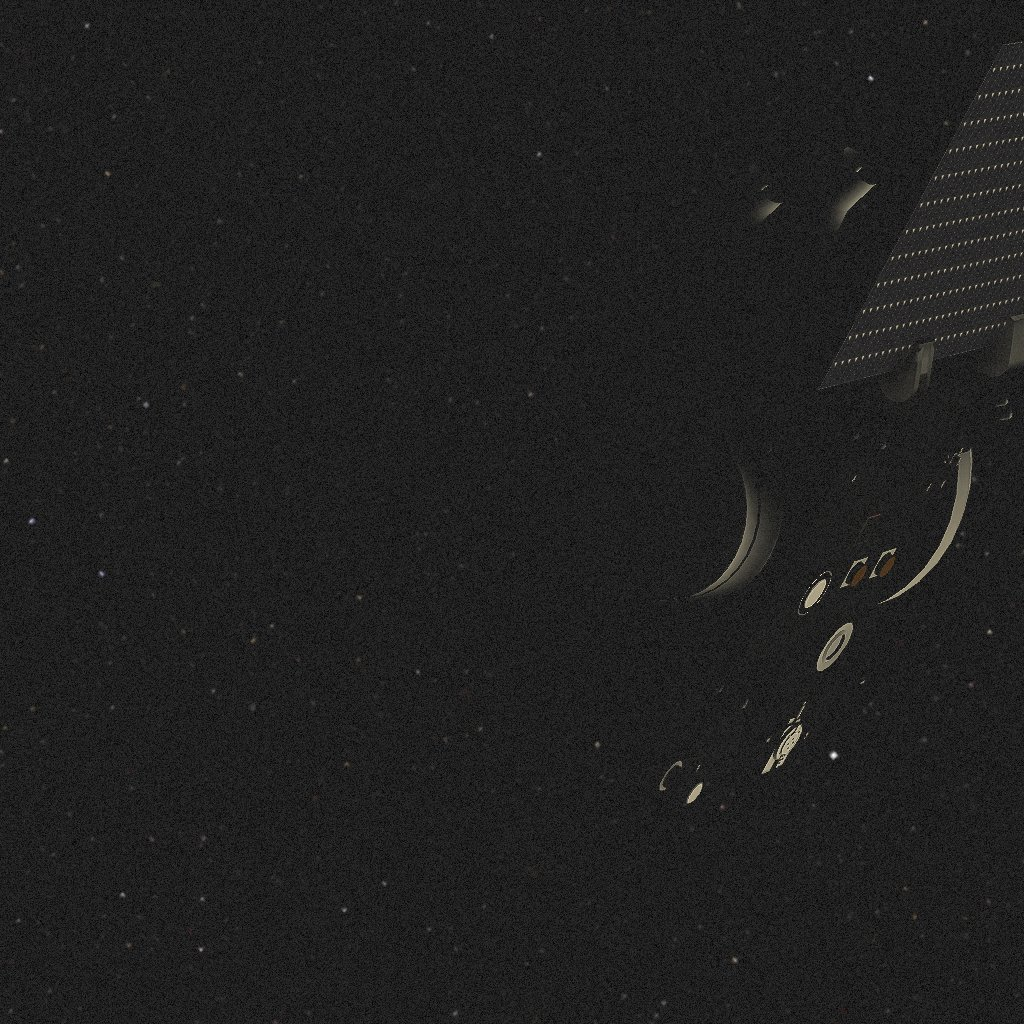proba_3_csc: (436, 37, 1024, 803)
